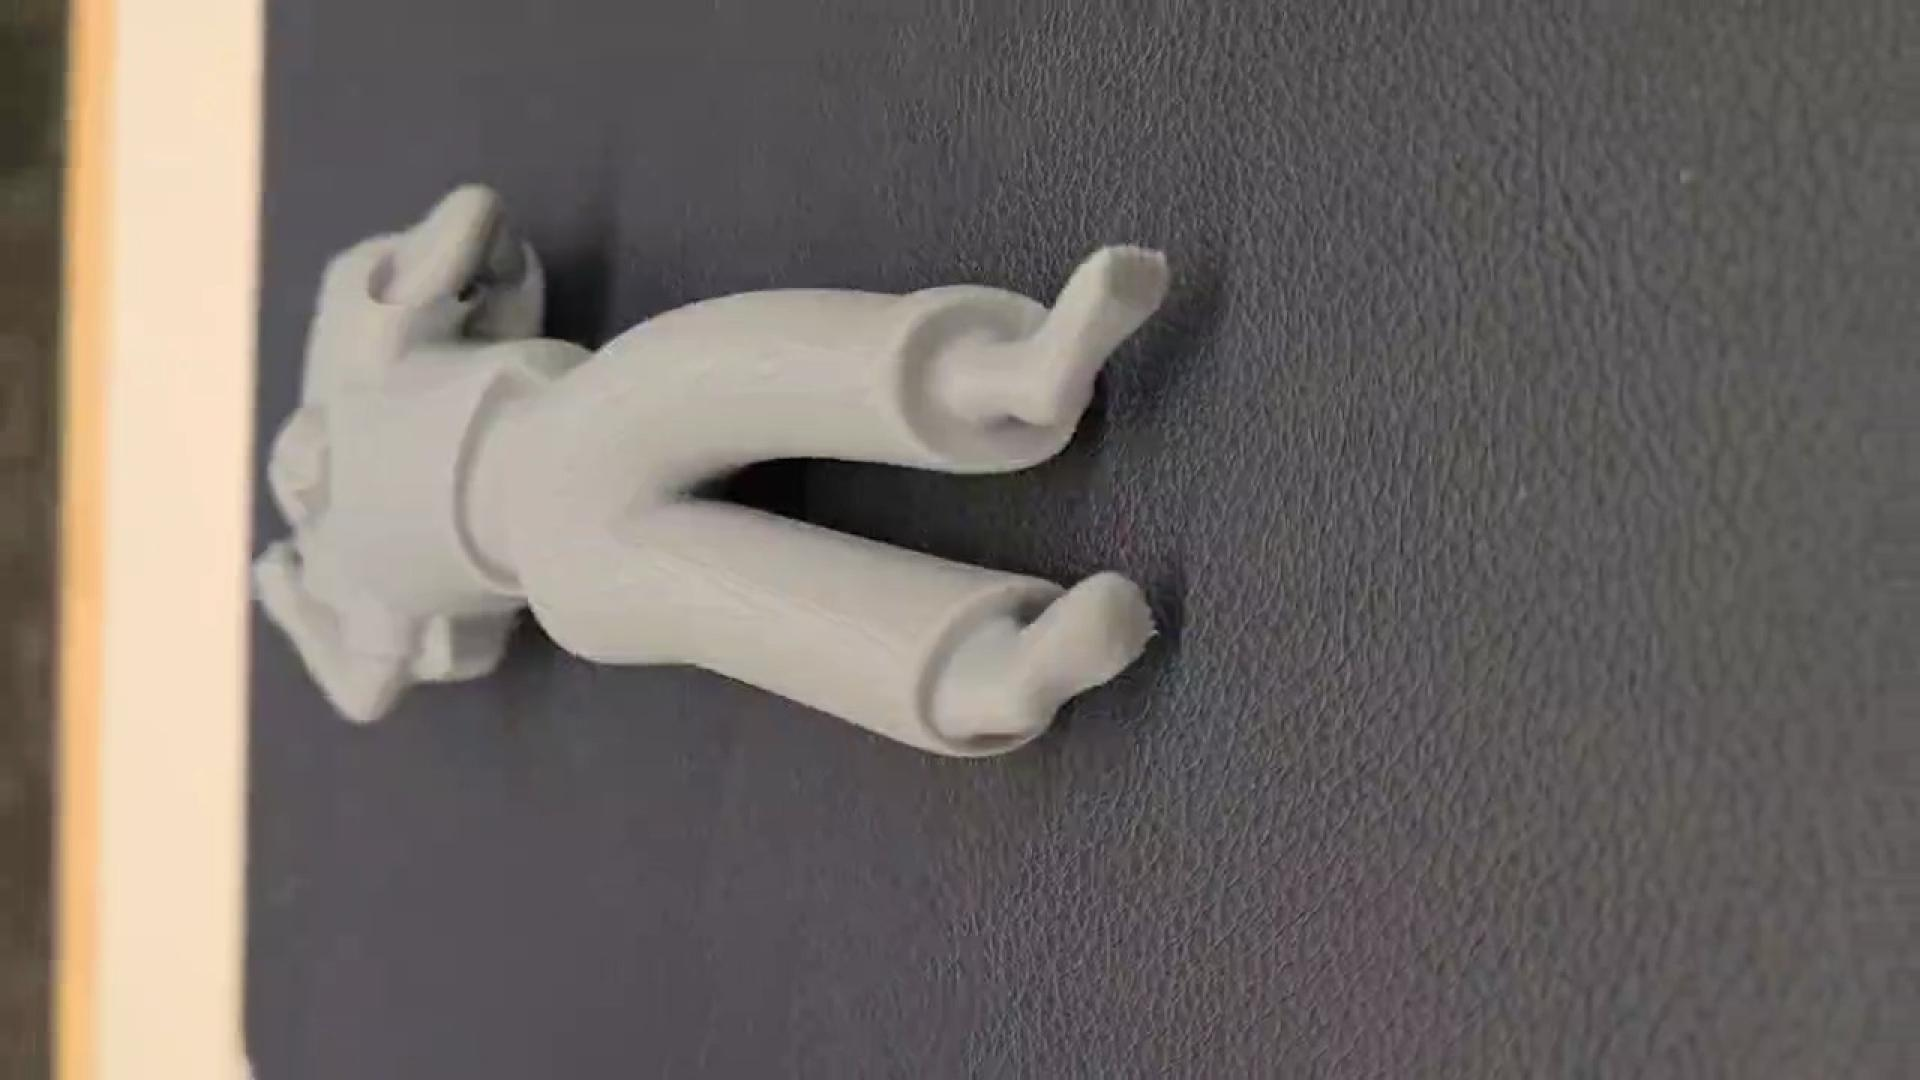Bad-style: (247, 160, 1170, 765)
